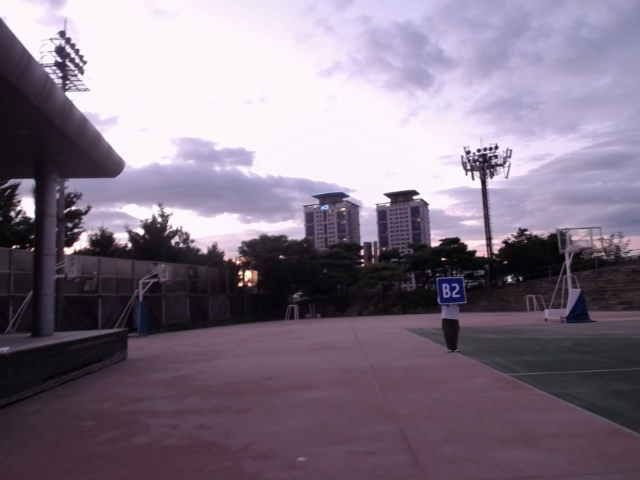delivery_b2: (436, 277, 465, 305)
